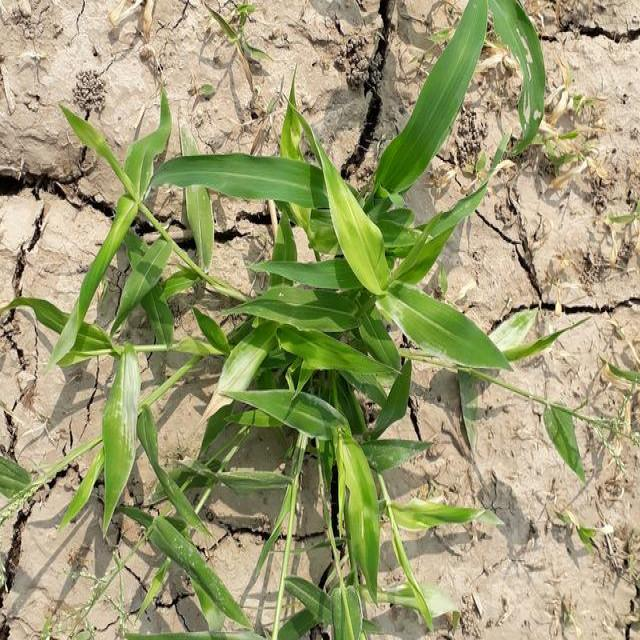weed: (69, 96, 494, 640)
